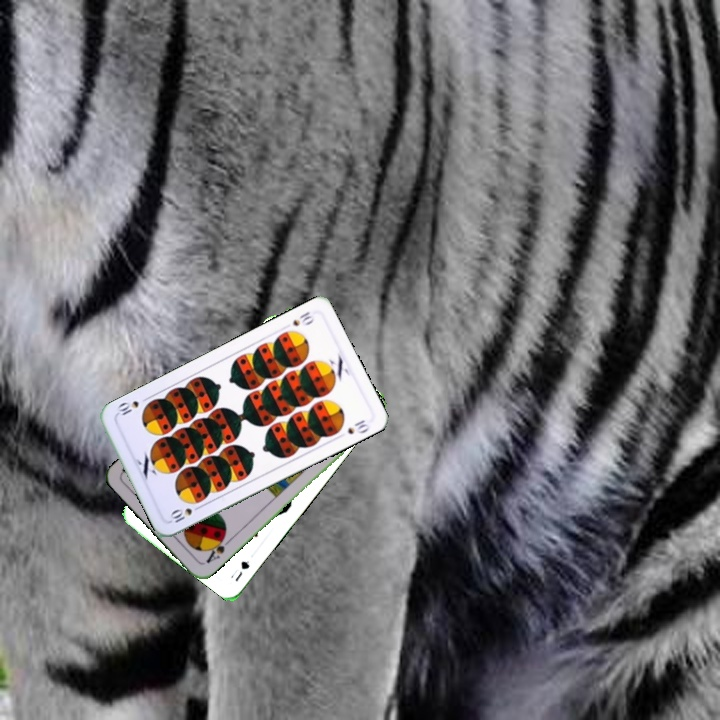GU: (226, 557, 252, 584)
S10: (166, 501, 205, 525), (288, 307, 316, 329)
SA: (202, 531, 234, 566)
